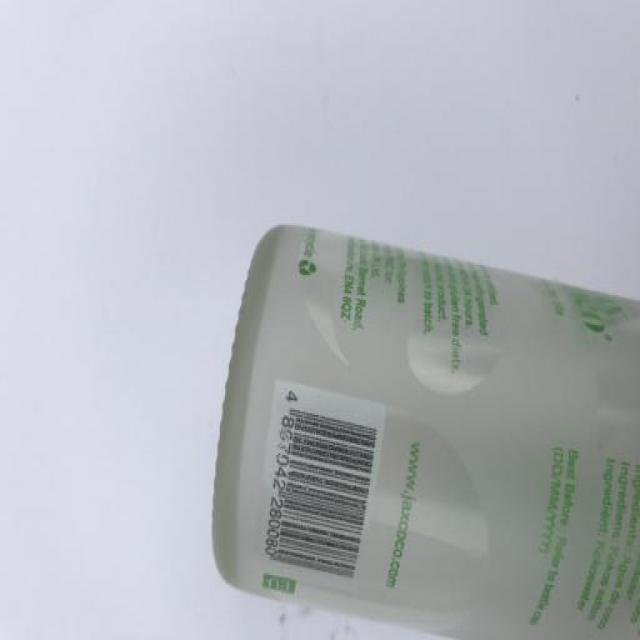Waste: (212, 227, 640, 639)
